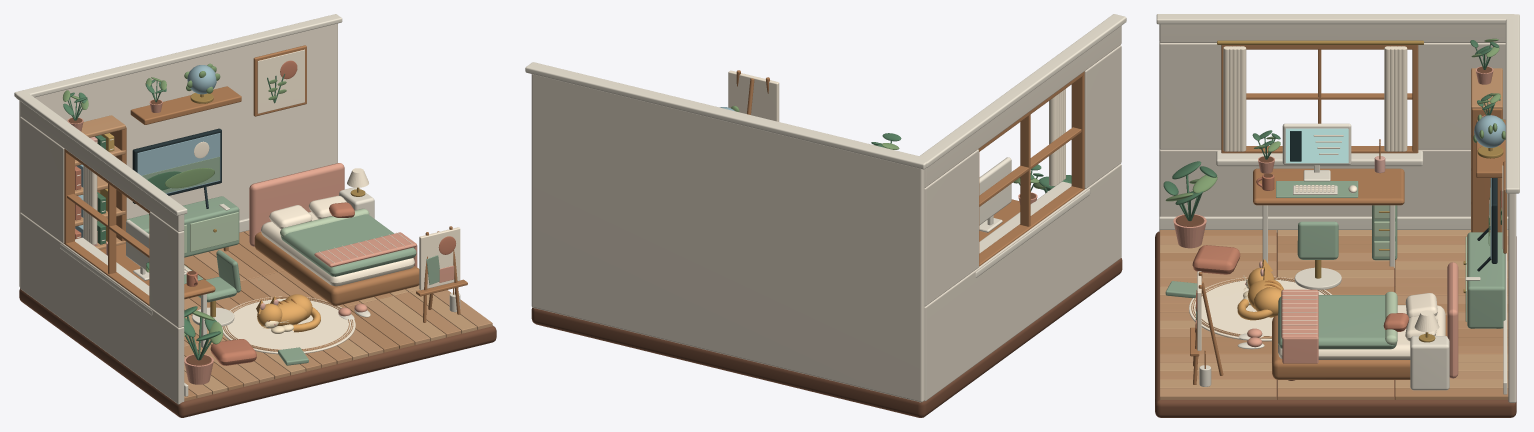
File: room.glb
3 views of the same model, side by side, from view 1: azimuth 30°, elevation 25°; view 2: azimuth 150°, elevation 25°; view 3: azimuth 270°, elevation 25° (orthographic). The views are drawn at different scales.
Parts seen in each view (by area): view 1: Back wall, Left lower, Oak foundation, Left far pier, Woven rug, Sage duvet, Upholstered headboard, Left near pier, Back wall cap, Oak bed platform, Left upper, Left wall cap (+44 smaller); view 2: Back wall, Left lower, Oak foundation, Left far pier, Back wall cap, Left near pier, Left upper, Left wall cap, Canvas, Window sill, Window jamb, Window rail (+4 smaller); view 3: Left lower, Oak foundation, Left near pier, Left far pier, Left upper, Sage duvet, Left wall cap, Desk surface, Media cabinet, Left skirting, Oak bed platform, Woven rug (+90 smaller).
Part boxes in pixels (left/top/right/bottom): Back wall: left=19, top=23, right=337, bottom=286; Left lower: left=20, top=213, right=184, bottom=404; Oak foundation: left=19, top=288, right=496, bottom=417; Left far pier: left=20, top=117, right=64, bottom=243; Woven rug: left=222, top=296, right=355, bottom=354; Sage duvet: left=281, top=214, right=416, bottom=276; Upholstered headboard: left=249, top=163, right=344, bottom=246; Left near pier: left=149, top=211, right=184, bottom=327; Back wall cap: left=14, top=14, right=342, bottom=97; Oak bed platform: left=254, top=232, right=419, bottom=305; Left upper: left=20, top=101, right=184, bottom=231; Left wall cap: left=16, top=92, right=187, bottom=215; Back wall: left=531, top=74, right=924, bottom=402; Left lower: left=924, top=164, right=1121, bottom=401; Oak foundation: left=531, top=258, right=1122, bottom=417; Left far pier: left=924, top=149, right=978, bottom=306; Back wall cap: left=525, top=62, right=928, bottom=169; Left near pier: left=1084, top=45, right=1121, bottom=188; Left upper: left=924, top=26, right=1121, bottom=187; Left wall cap: left=917, top=14, right=1126, bottom=167; Canvas: left=728, top=70, right=779, bottom=121; Window sill: left=975, top=181, right=1090, bottom=277; Window jamb: left=1071, top=72, right=1084, bottom=189; Window rail: left=979, top=186, right=1083, bottom=266; Left lower: left=1159, top=148, right=1508, bottom=232; Oak foundation: left=1155, top=231, right=1516, bottom=417; Left near pier: left=1159, top=42, right=1221, bottom=149; Left far pier: left=1418, top=43, right=1505, bottom=149; Left upper: left=1159, top=24, right=1505, bottom=42; Sage duvet: left=1278, top=295, right=1396, bottom=349; Left wall cap: left=1156, top=14, right=1513, bottom=24; Desk surface: left=1253, top=168, right=1404, bottom=205; Media cabinet: left=1467, top=232, right=1505, bottom=328; Left skirting: left=1159, top=216, right=1508, bottom=229; Oak bed platform: left=1272, top=315, right=1447, bottom=379; Woven rug: left=1189, top=276, right=1331, bottom=341.
Bounding box in the file's own units: 7.05 × 4.36 × 6.21.
